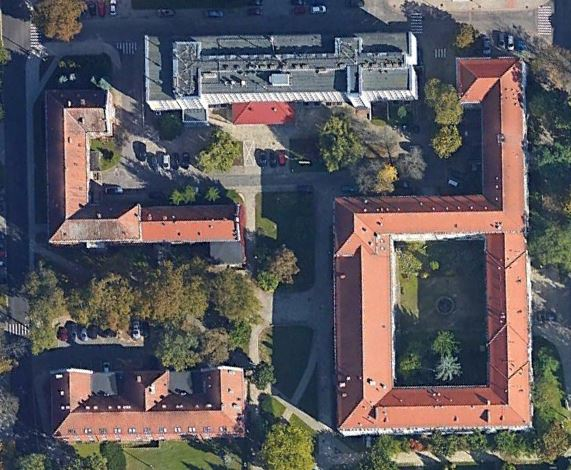block of flats: (330, 48, 534, 441), (42, 85, 250, 272), (138, 25, 426, 120), (47, 362, 249, 444)
